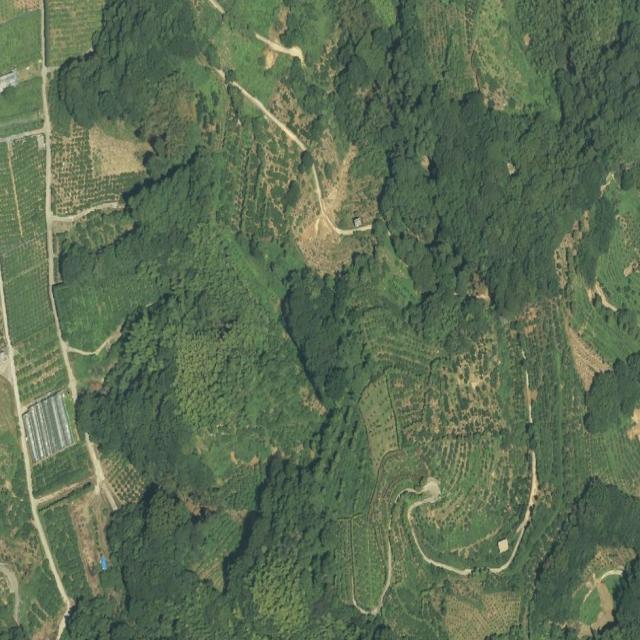landslide: (323, 144, 358, 222), (298, 215, 331, 251)
